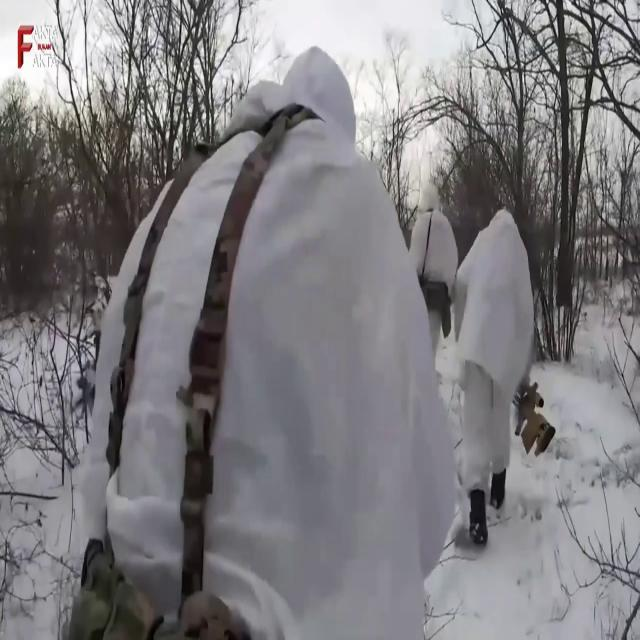Human: (65, 45, 455, 620), (451, 209, 555, 547), (409, 185, 460, 370)
